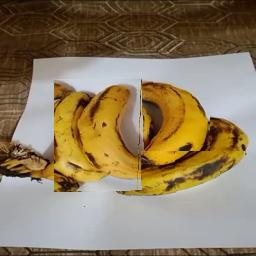Banana Semifresh: (55, 79, 143, 192), (124, 73, 211, 173), (108, 152, 246, 204)
